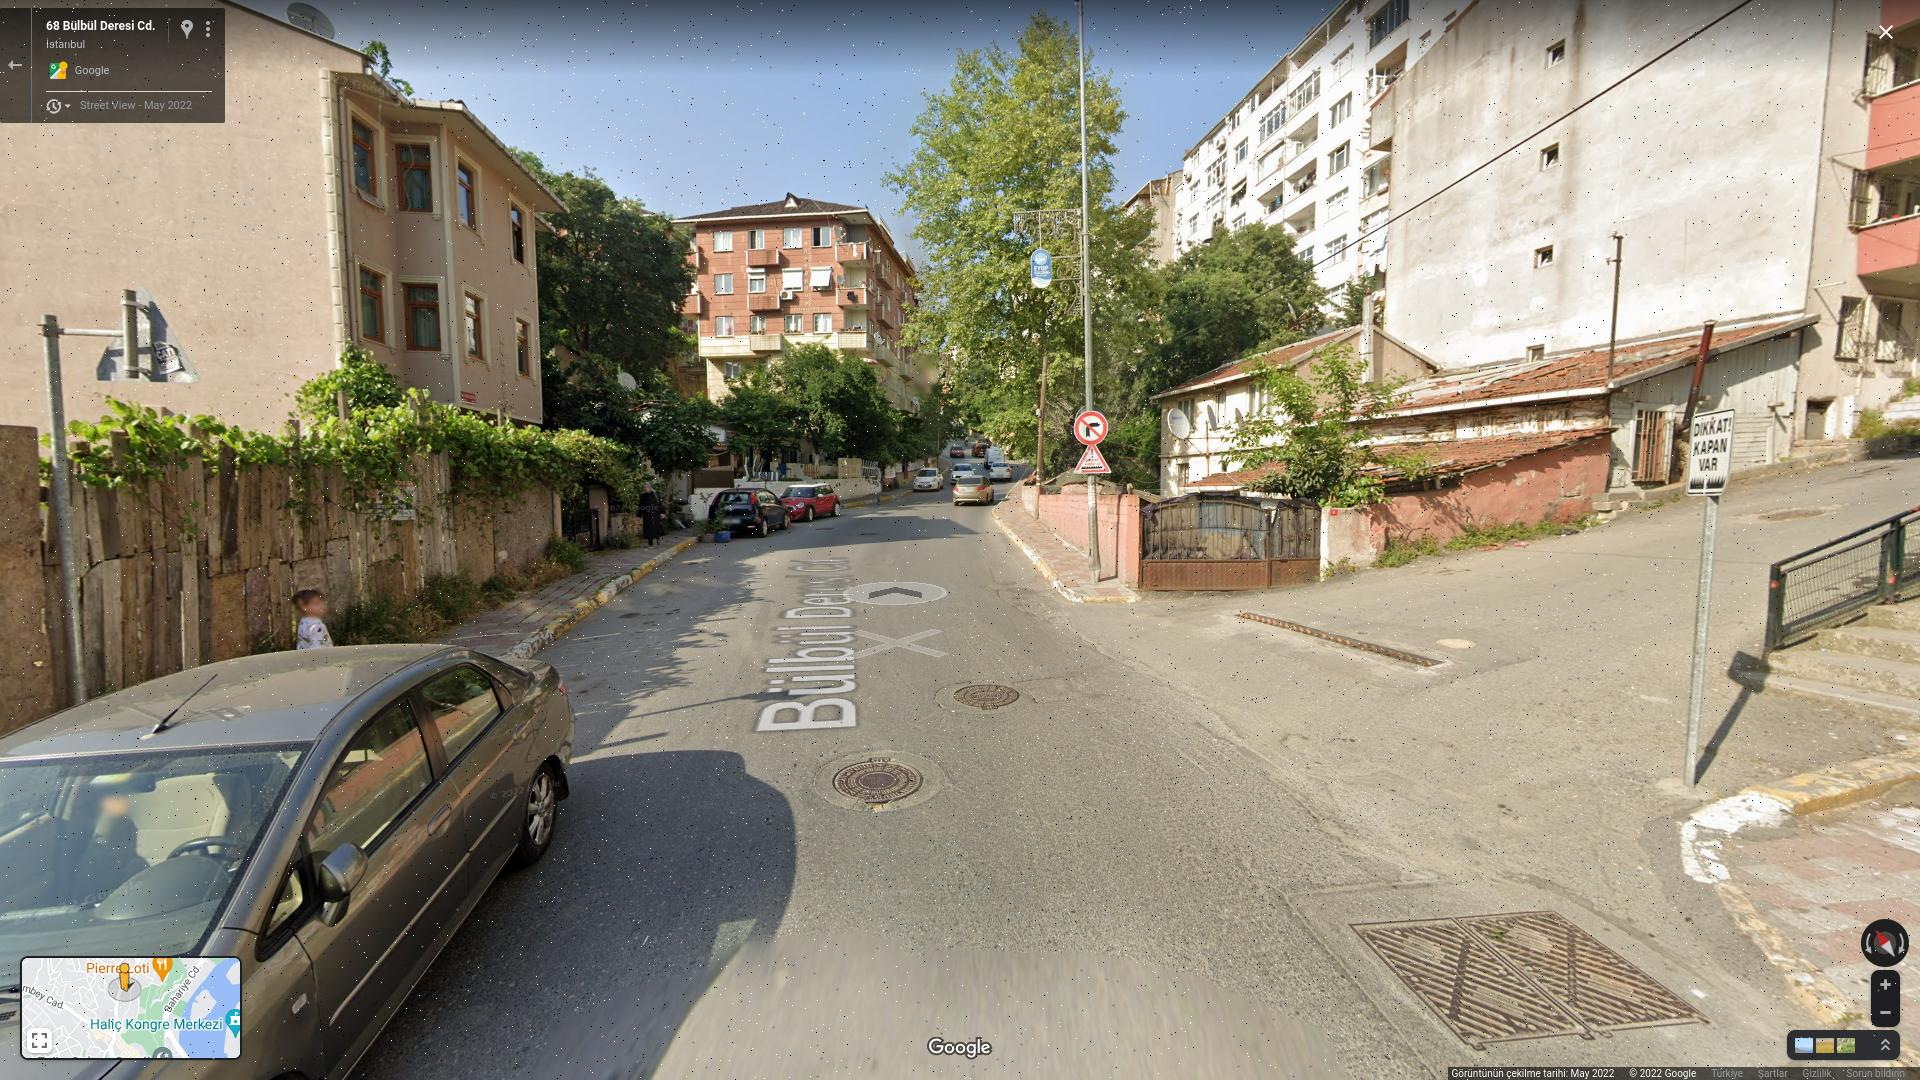rightturnsareforbidden: (1076, 413, 1108, 444)
